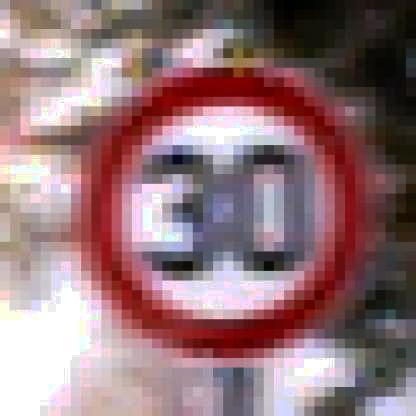Speed Limit -30-: (84, 57, 380, 355)
